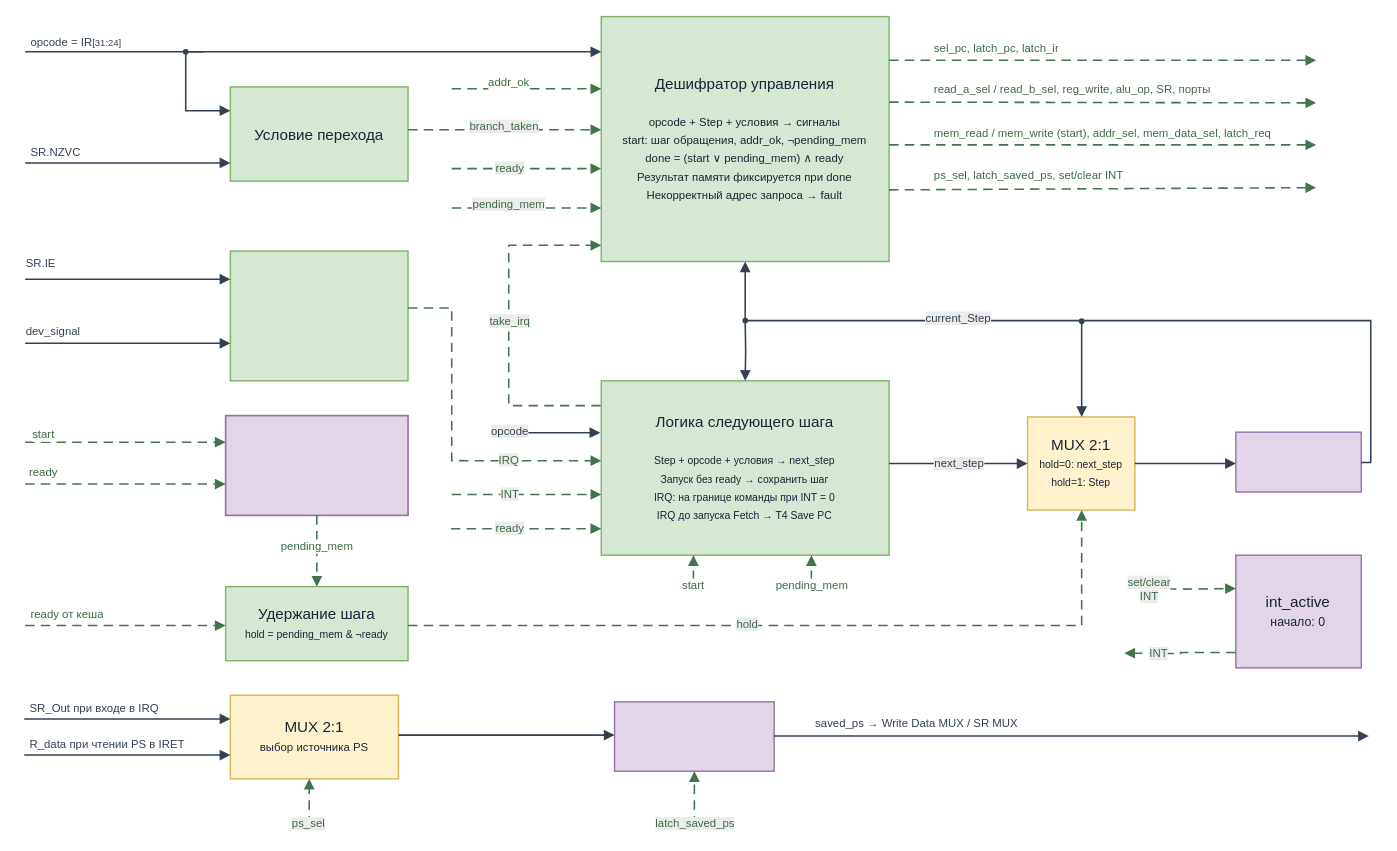
This 1397x851 diagram has some shape labels left out. Each missing label, with the centre of its shape:
"pending_mem 1 бит · reset = 0 start без ready → 1 ready → 0" goes at [316,465].
"saved_ps 32 бита" goes at [693,736].
"Step [2:0] начало: T0" goes at [1298,461].
"Запрос IRQ IE & dev_signal" goes at [318,315].
